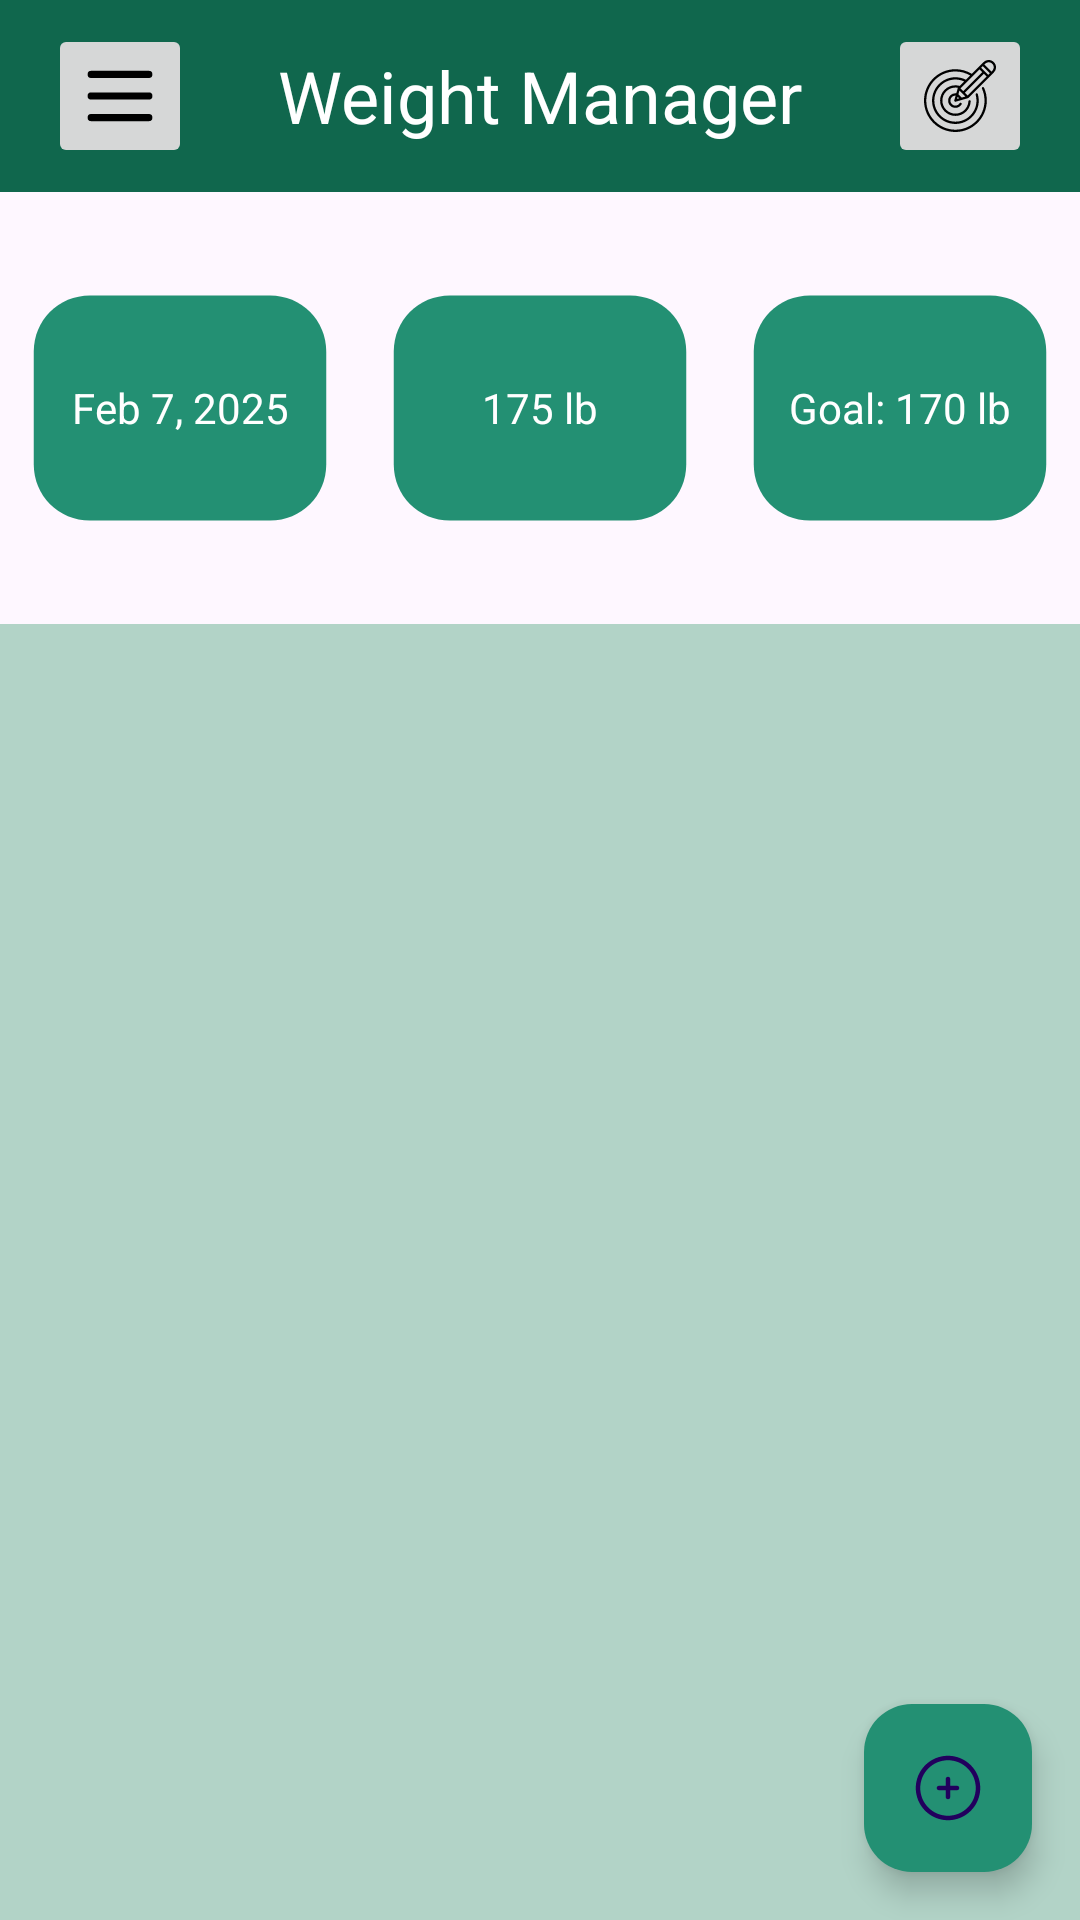

Screen size 1080×1920. Icon name, then its center in pixels as point (x, y):
Add a new weight: point (948, 1788)
Menu Icon: point (120, 96)
set a new weight button: point (960, 96)
